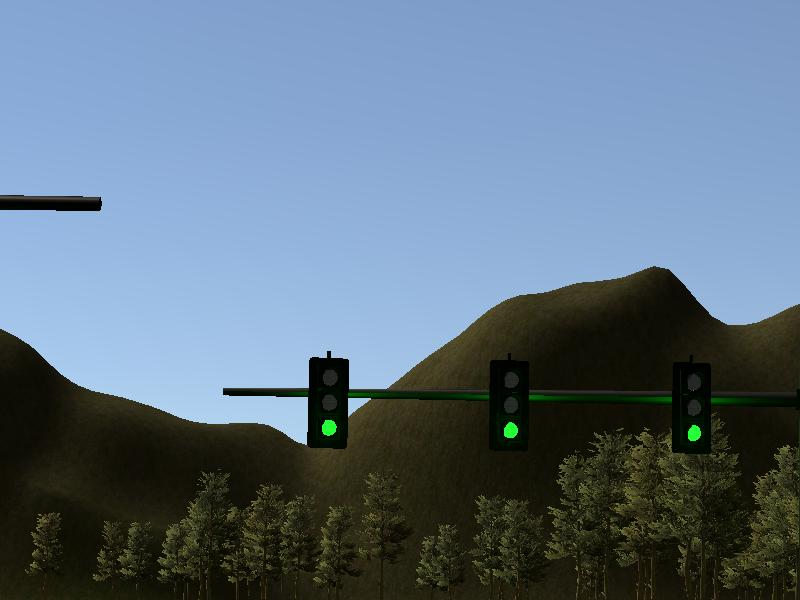Green: (673, 366, 713, 454), (492, 361, 526, 450), (310, 358, 341, 446)
